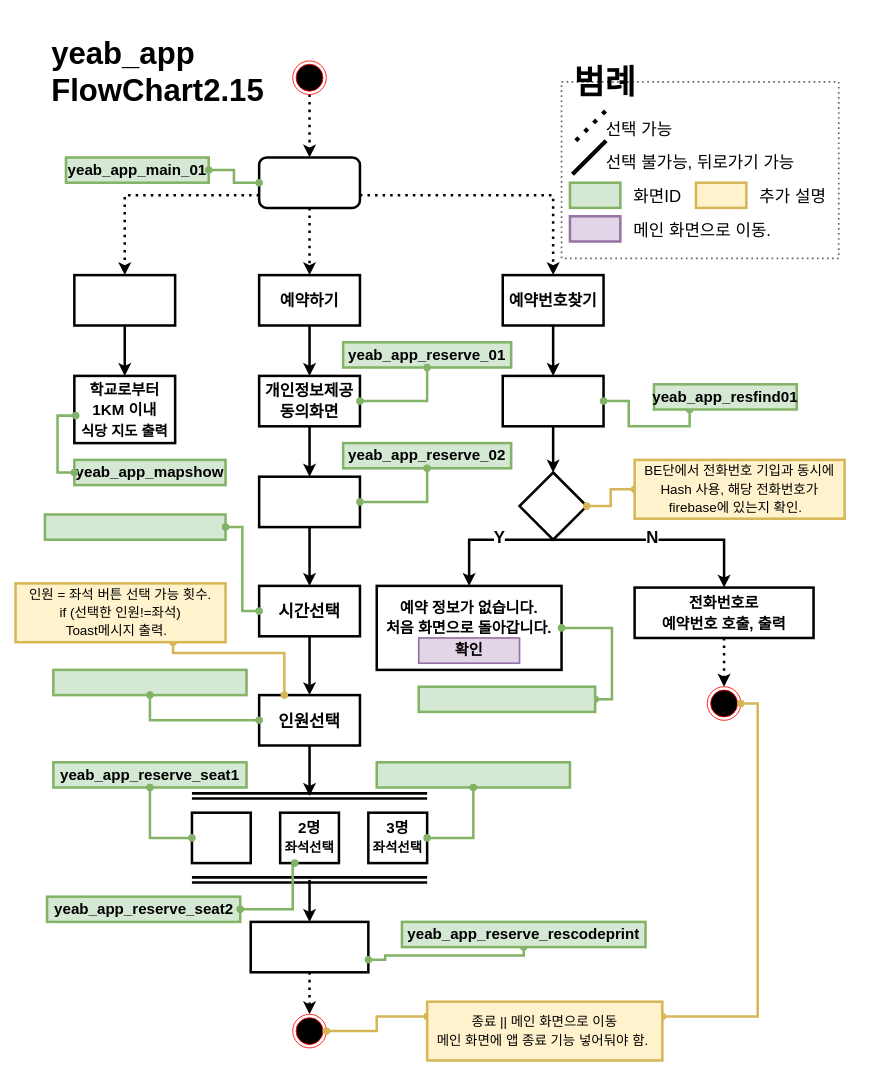
Image size: 870x1076. Some labels were removed from this diagram. The shapes that lost their labels are listed below. From the top down, each one's centre as x and y in pixels, then its label:
At (309,182): "메인화면".
At (124,299): "주변 식당 보기".
At (552,400): "사용한 전화번호 기입".
At (309,501): "예약 대표자의 전화번호 입력".
At (553,506): "대조".
At (134,527): "yeab_app_reserve_time".
At (149,682): "yeab_app_reserve_person".
At (506,699): "yeab_app_resfind_pop".
At (473,774): "yeab_app_reserve_seat3".
At (221,837): "1명 좌석선택".
At (309,946): "예약 번호 출력".
